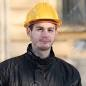helmets: (24, 1, 60, 28)
